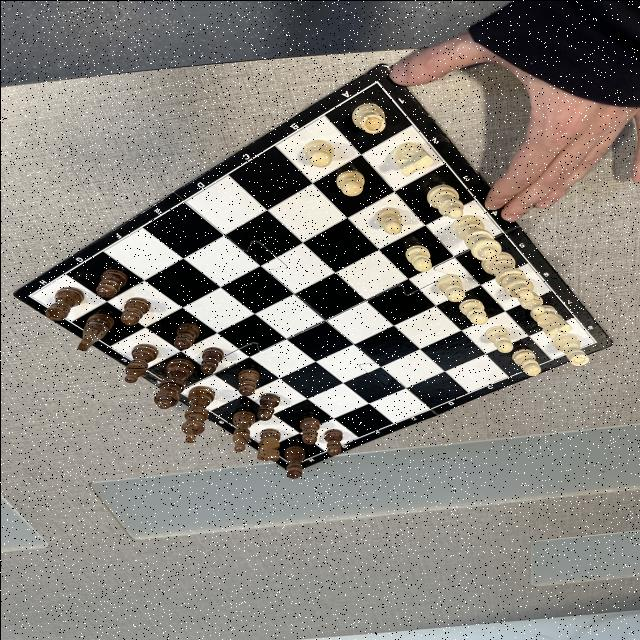Black-Bishop: (124, 343, 158, 382), (230, 410, 256, 451)
Black-King: (179, 385, 215, 443)
Black-Knight: (76, 312, 114, 351), (256, 428, 280, 460)
Black-Pawn: (96, 268, 128, 296), (120, 296, 150, 324), (173, 322, 200, 348), (256, 392, 280, 420), (200, 346, 223, 373), (237, 368, 259, 395), (299, 416, 319, 443), (324, 428, 342, 454)
Black-Queen: (153, 356, 195, 408)
Black-Rook: (44, 286, 84, 320), (283, 445, 305, 478)
White-Bishop: (426, 183, 464, 218), (518, 288, 544, 314)
White-King: (479, 250, 534, 302)
White-Knight: (391, 142, 434, 176), (530, 304, 572, 338)
White-Pawn: (302, 139, 334, 167), (511, 348, 540, 376), (436, 273, 464, 301), (458, 298, 488, 324), (336, 170, 364, 196), (375, 206, 401, 234), (486, 324, 512, 352), (404, 244, 431, 270)
White-Queen: (452, 214, 500, 260)
White-Rook: (550, 332, 588, 366), (350, 102, 386, 132)
